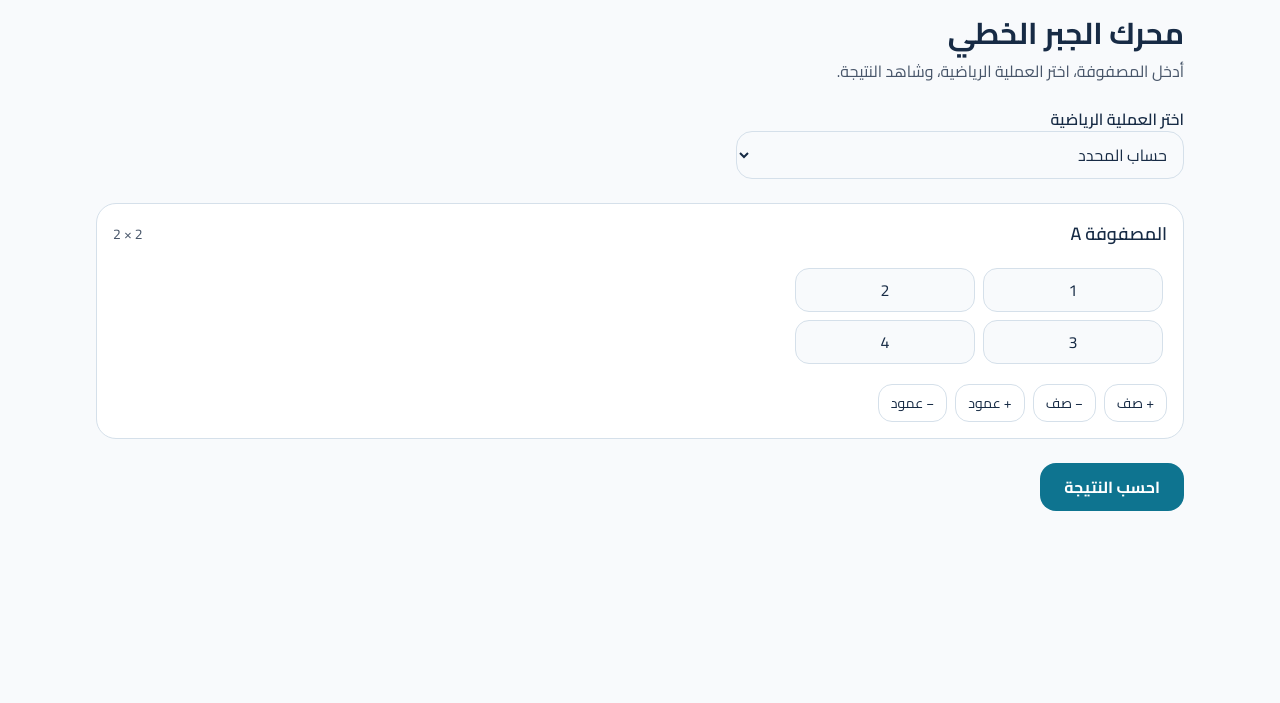
Test case: Linear Algebra Page Integration › calculates inverse and displays fractions
This screenshot has width=1280, height=703.
Select "معكوس المصفوفة" in the dropdown at (960, 155), box x1=736 y1=131 x2=1184 y2=179
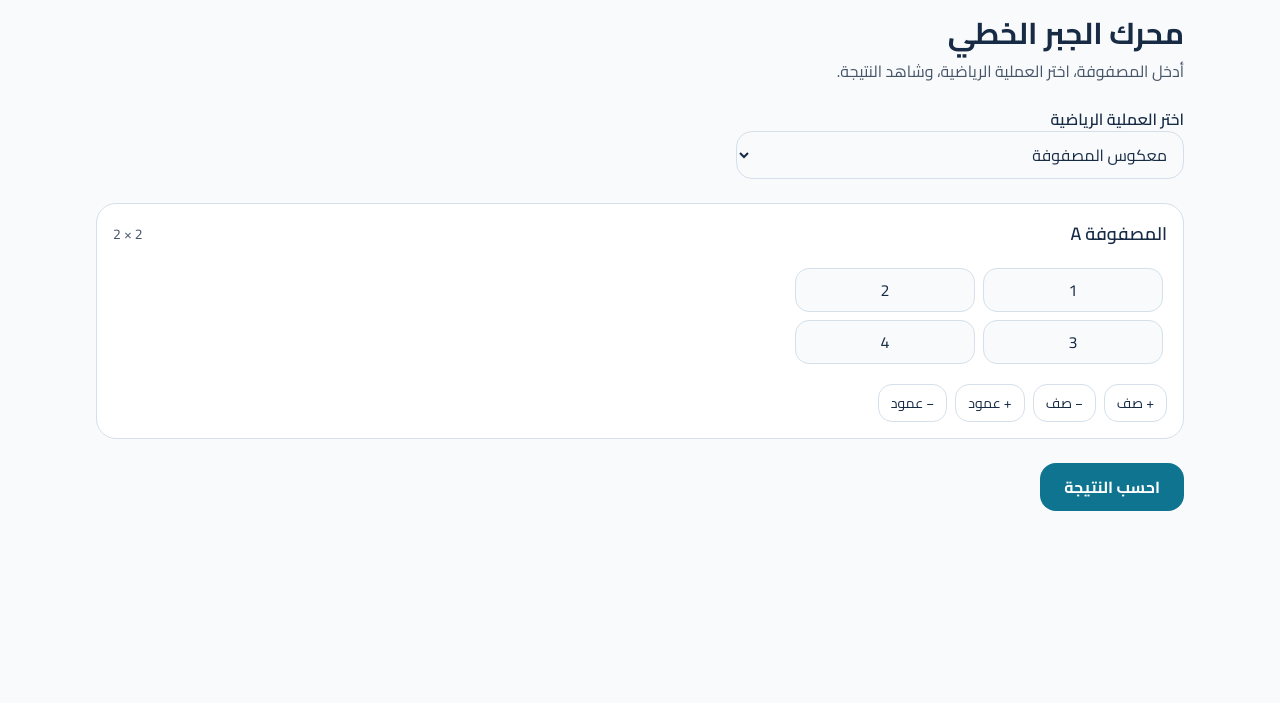
Replace the text in the field named "صف 1, عمود 1" with "4" at (1073, 290), box x1=983 y1=268 x2=1163 y2=312
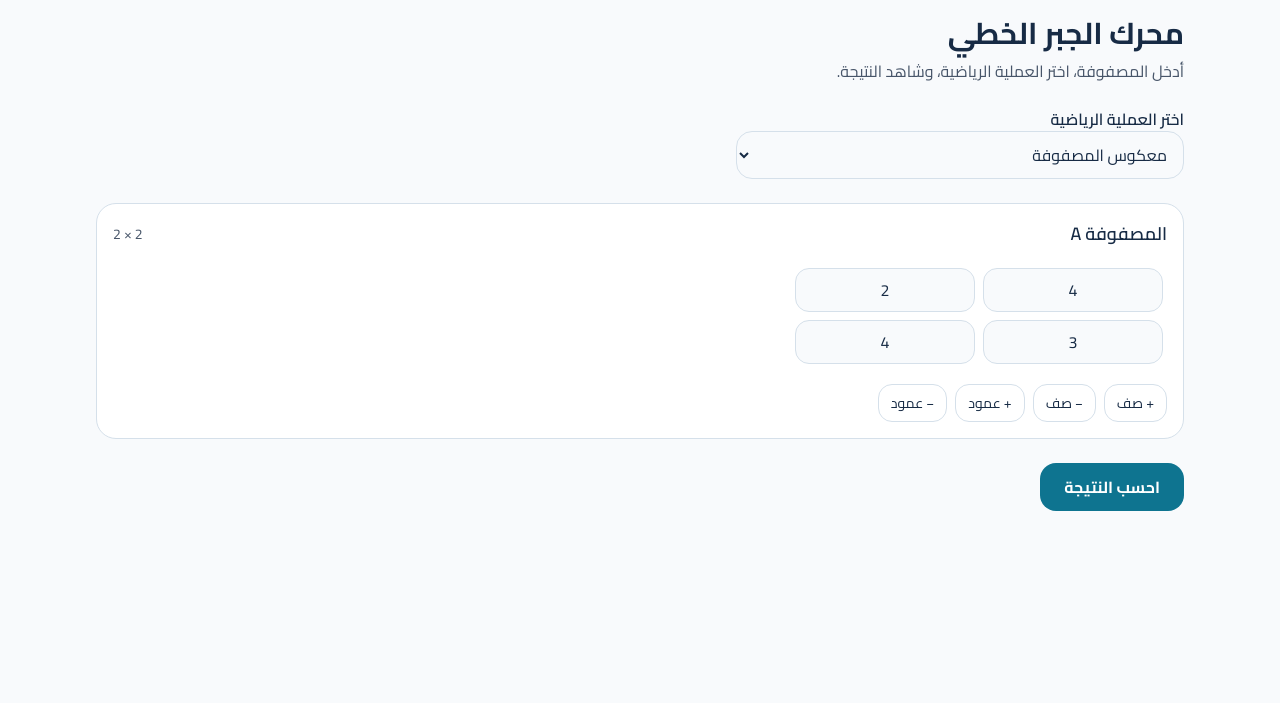
Replace the text in the field named "صف 1, عمود 2" with "7" at (885, 290), box x1=795 y1=268 x2=975 y2=312
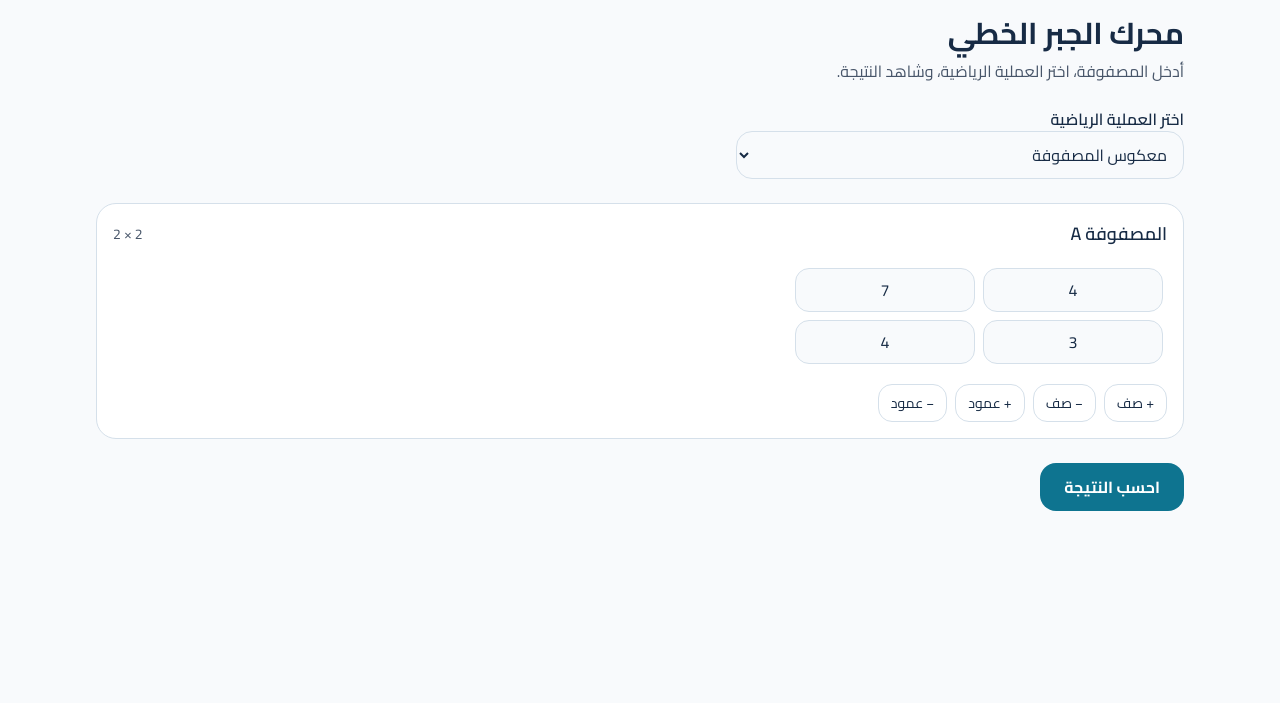
Replace the text in the field named "صف 2, عمود 1" with "2" at (1073, 342), box x1=983 y1=320 x2=1163 y2=364
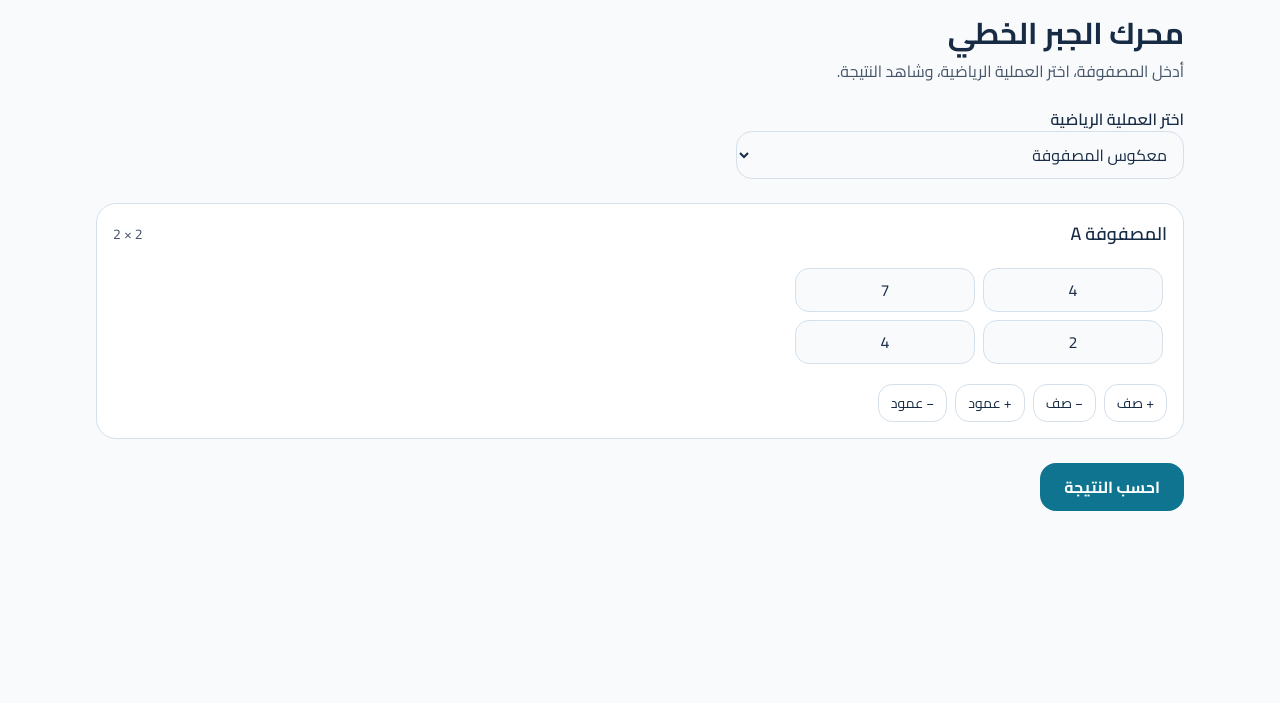
Replace the text in the field named "صف 2, عمود 2" with "6" at (885, 342), box x1=795 y1=320 x2=975 y2=364
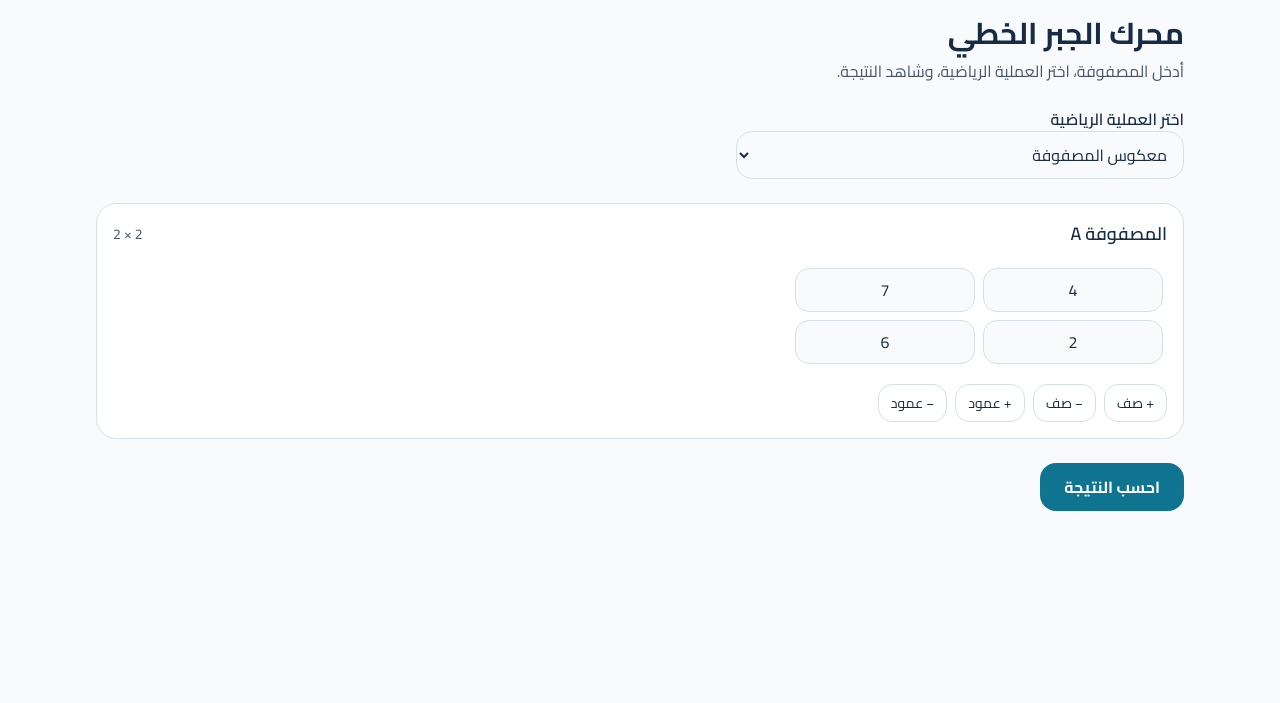
Click the button "احسب النتيجة" at (1112, 487), box x1=1040 y1=463 x2=1184 y2=511
(page scrolled)
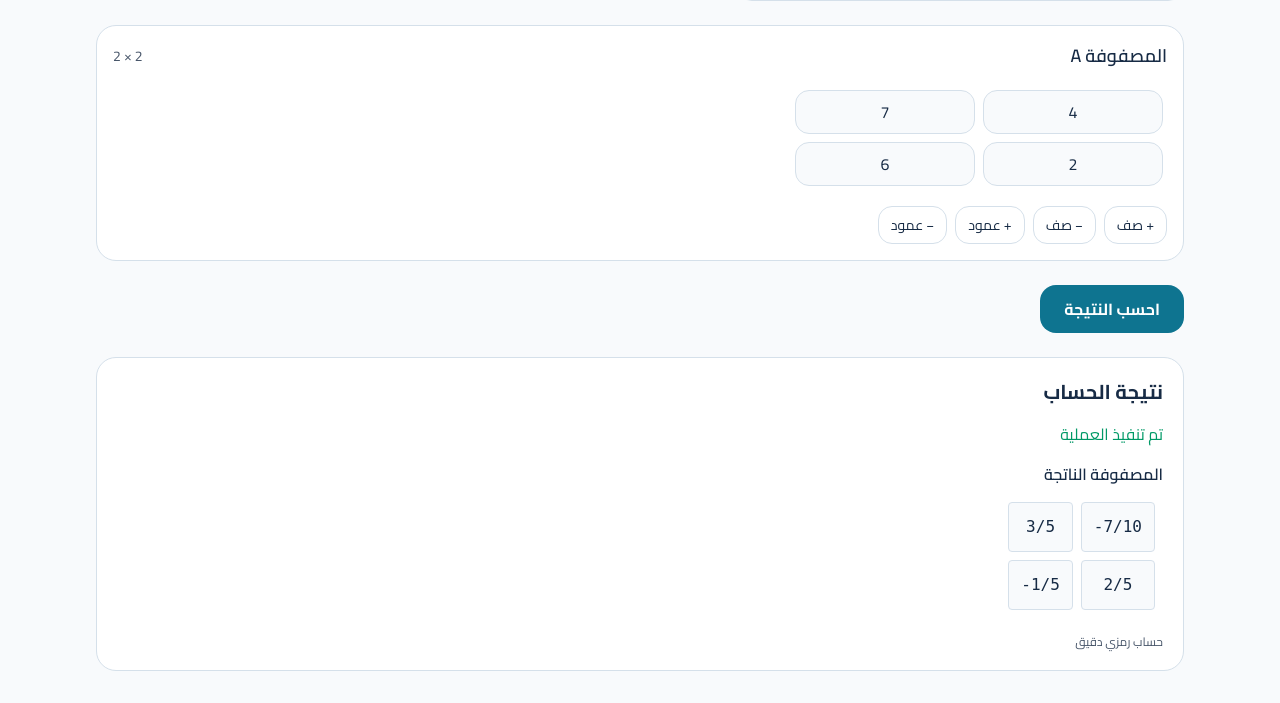
expect the text "3/5" is shown: met, box x1=1008 y1=502 x2=1073 y2=552
expect the text "-7/10" is shown: met, box x1=1081 y1=502 x2=1155 y2=552
